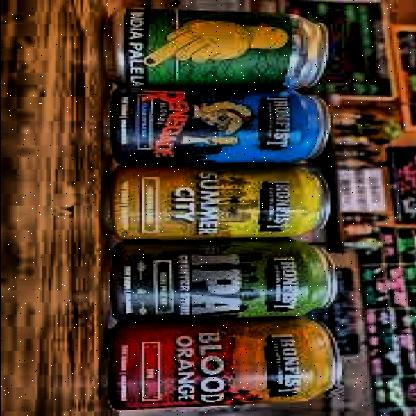Can: (97, 317, 345, 413), (103, 240, 341, 324), (100, 7, 332, 90), (100, 87, 335, 165), (101, 162, 333, 240)
